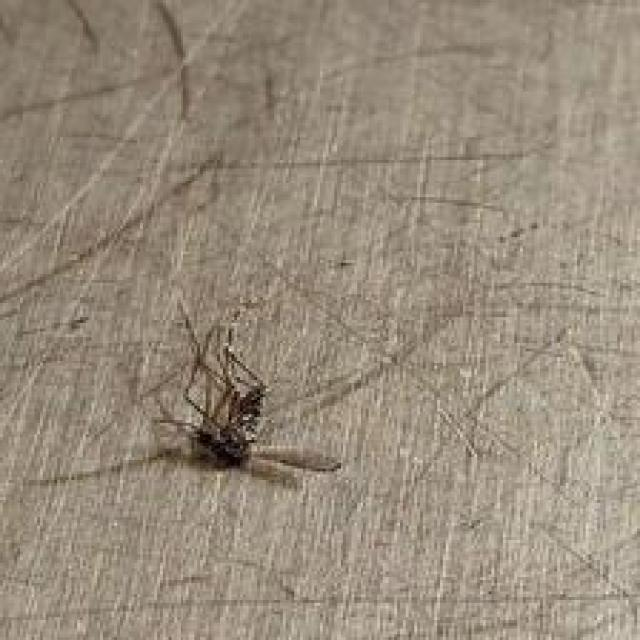Aedes albopictus: (23, 300, 394, 491)
